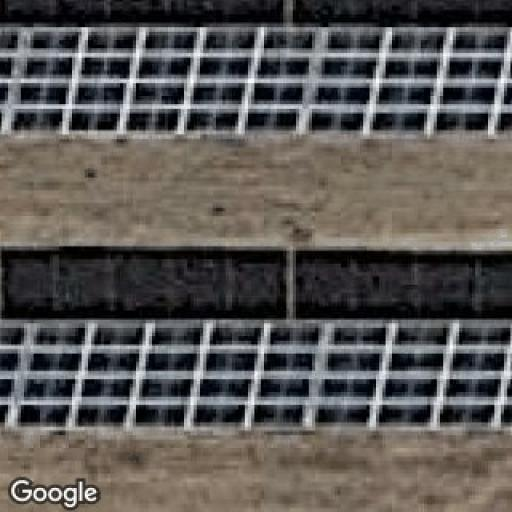solar-panel: (0, 24, 512, 136), (0, 322, 512, 430)
